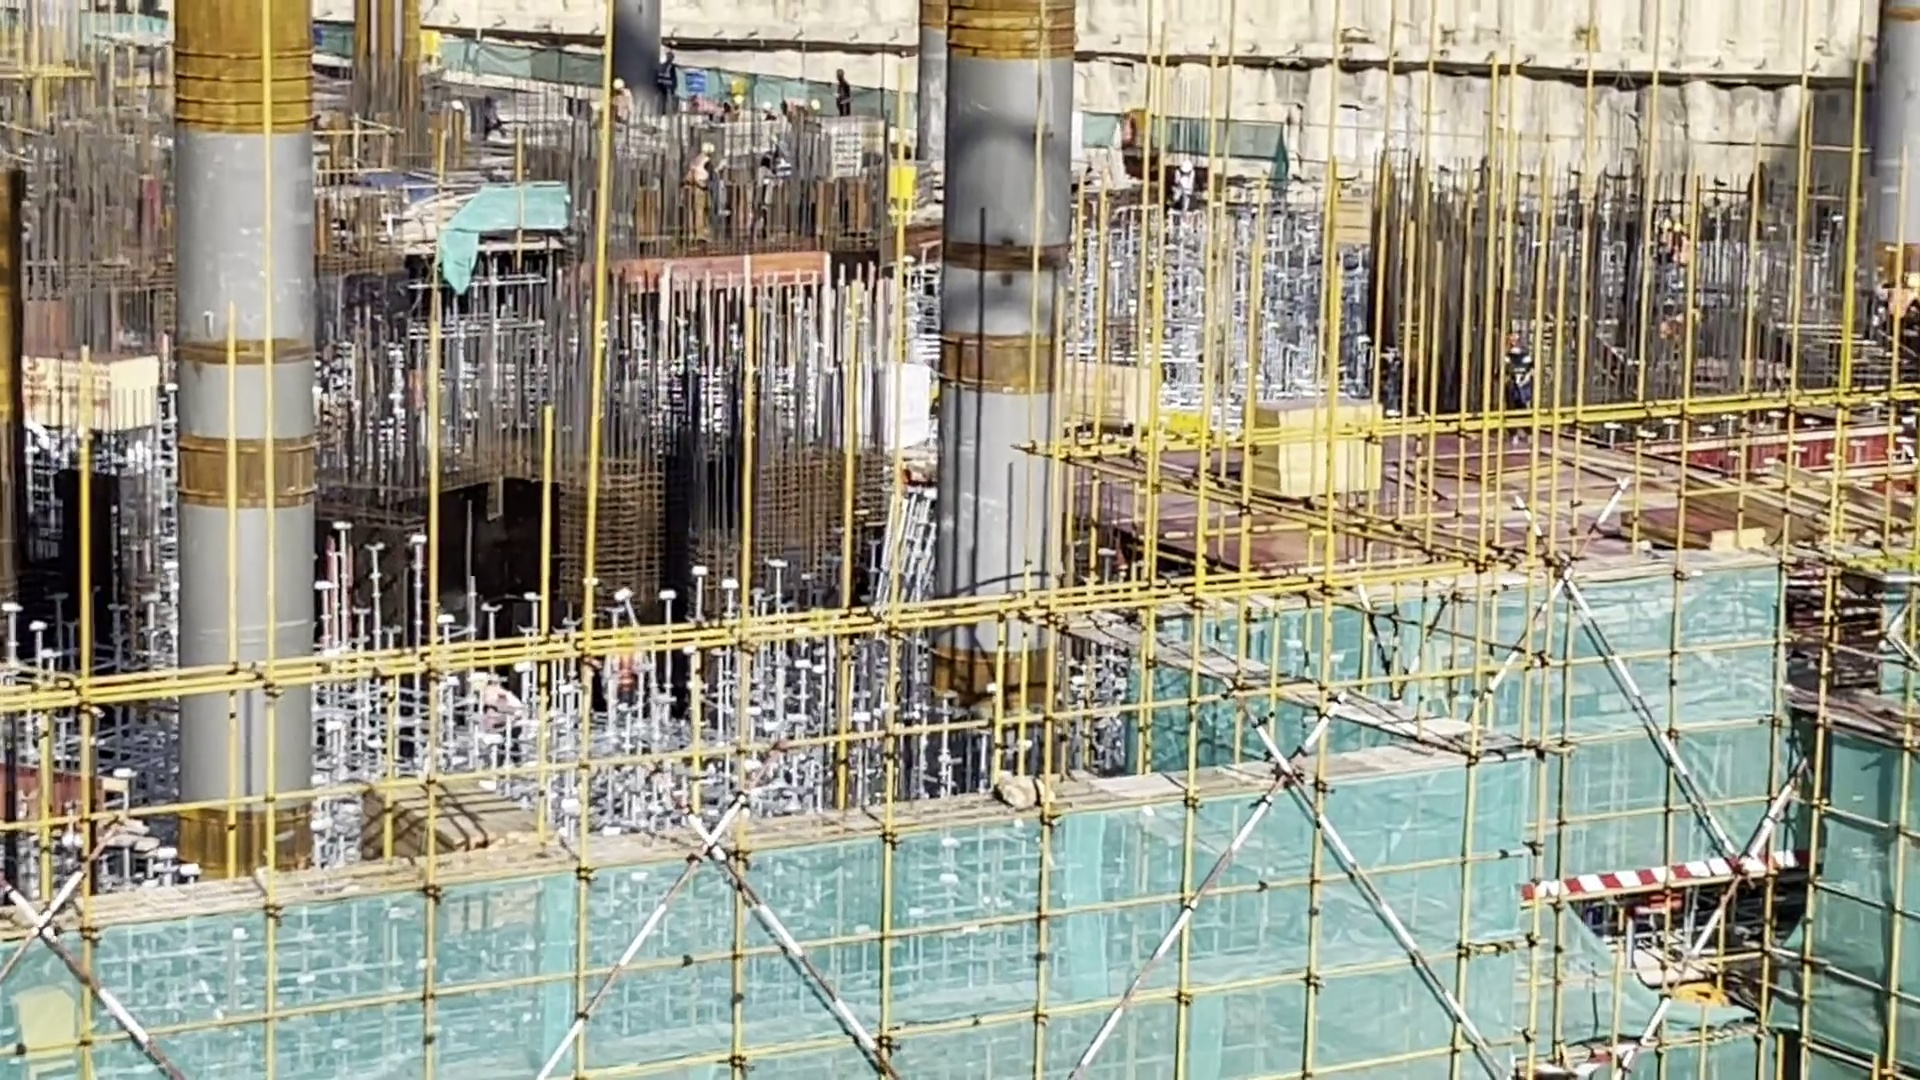board: (371, 777, 564, 947), (1253, 396, 1403, 532), (19, 326, 164, 432), (1636, 492, 1764, 559)
helmet: (1119, 104, 1145, 126), (466, 676, 488, 692), (1694, 304, 1706, 324), (1675, 221, 1687, 241), (664, 50, 686, 60), (1382, 339, 1401, 351), (835, 69, 850, 82), (1504, 331, 1521, 344), (1181, 162, 1199, 174), (1657, 217, 1671, 231), (763, 101, 778, 114), (709, 147, 721, 160), (776, 139, 789, 150), (613, 80, 631, 88), (733, 96, 749, 105), (691, 91, 701, 103)
person: (466, 665, 549, 770), (612, 615, 674, 756), (1502, 333, 1542, 431), (1370, 335, 1412, 415), (679, 132, 713, 218), (1661, 304, 1702, 373), (758, 150, 788, 242), (1162, 156, 1196, 212), (1672, 219, 1696, 299), (1120, 99, 1138, 172), (828, 67, 850, 120), (660, 46, 677, 113), (1659, 216, 1672, 280), (609, 77, 629, 116), (690, 91, 719, 113), (727, 93, 741, 130), (760, 102, 780, 126)
vest: (614, 648, 649, 702), (1509, 354, 1540, 397), (495, 692, 530, 718), (1367, 358, 1390, 392), (759, 156, 788, 178), (690, 150, 706, 188), (1676, 240, 1694, 267), (1666, 320, 1683, 347), (655, 66, 671, 88), (1124, 137, 1144, 153), (838, 81, 850, 106), (1190, 175, 1201, 203), (619, 93, 631, 111), (1660, 248, 1669, 268), (730, 100, 737, 118), (768, 110, 775, 120)
wood: (1693, 456, 1878, 536), (1066, 342, 1159, 424)
